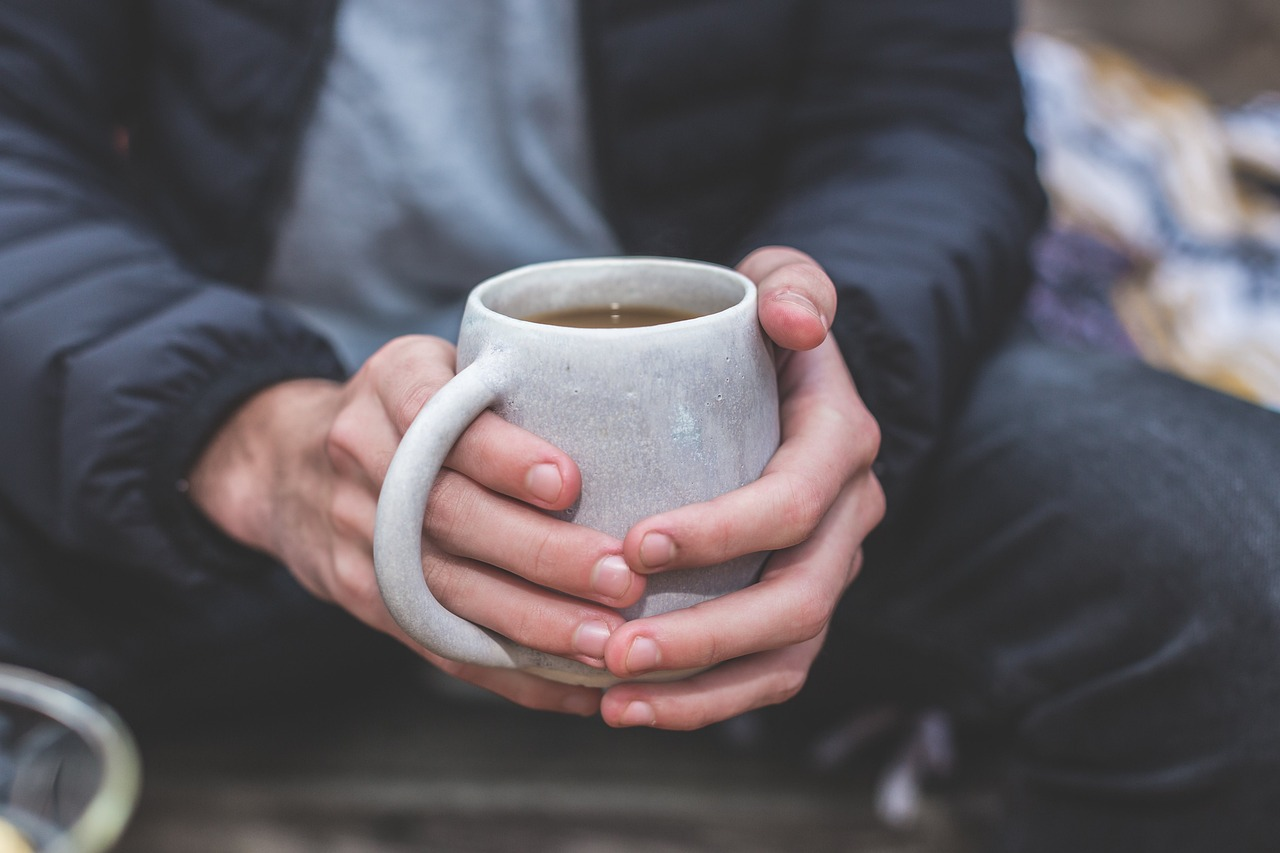mug: (313, 247, 813, 740)
